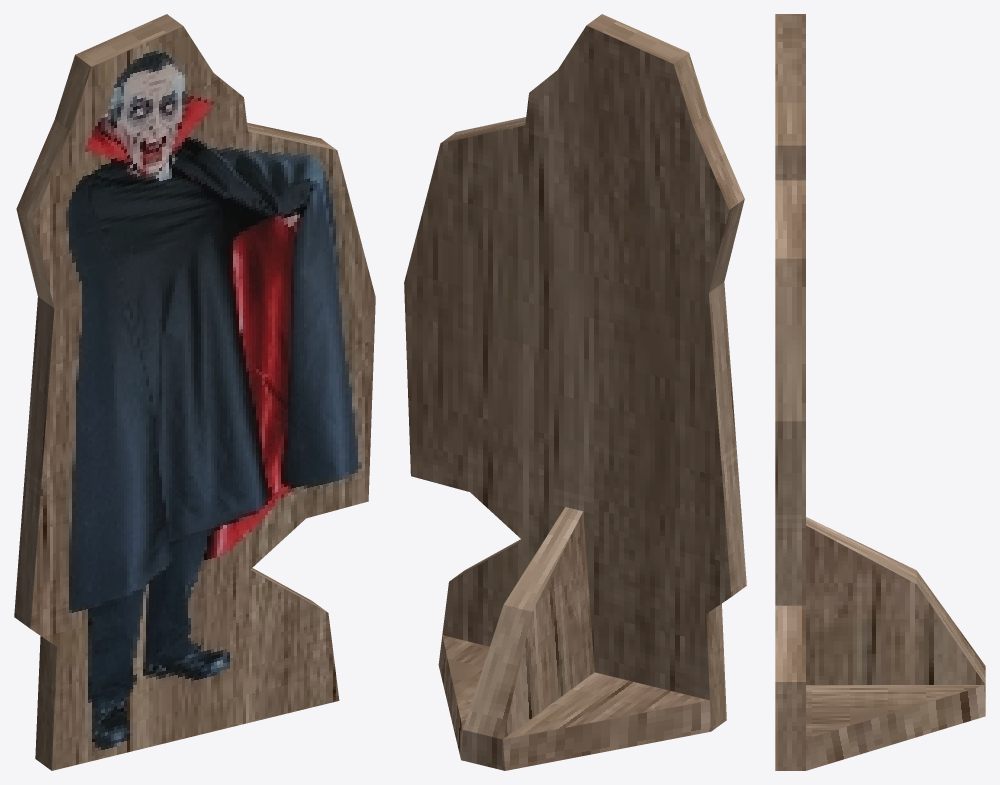
File: dracula cutout.glb
3 views of the same model, side by side, from view 1: azimuth 30°, elevation 25°; view 2: azimuth 150°, elevation 25°; view 3: azimuth 270°, elevation 25° (orthographic). The views are drawn at different scales.
Parts seen in each view (by area): view 1: Cube; view 2: Cube; view 3: Cube.
Boxes of the visible parts, x1,y1,x2,y2 form: Cube: (14,14,375,770); Cube: (404,14,746,770); Cube: (775,14,985,770).
Bounding box in the file's own units: 2.08 × 4.11 × 1.18.
Materials: 1 (1 with a texture image).
